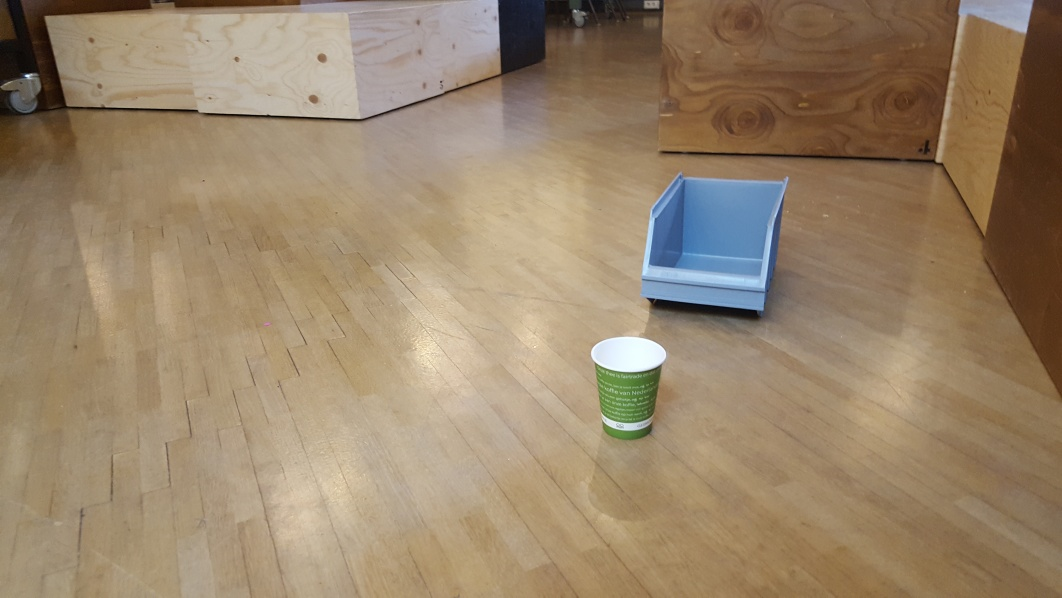cup: (590, 335, 666, 443)
tray: (642, 172, 792, 322)
